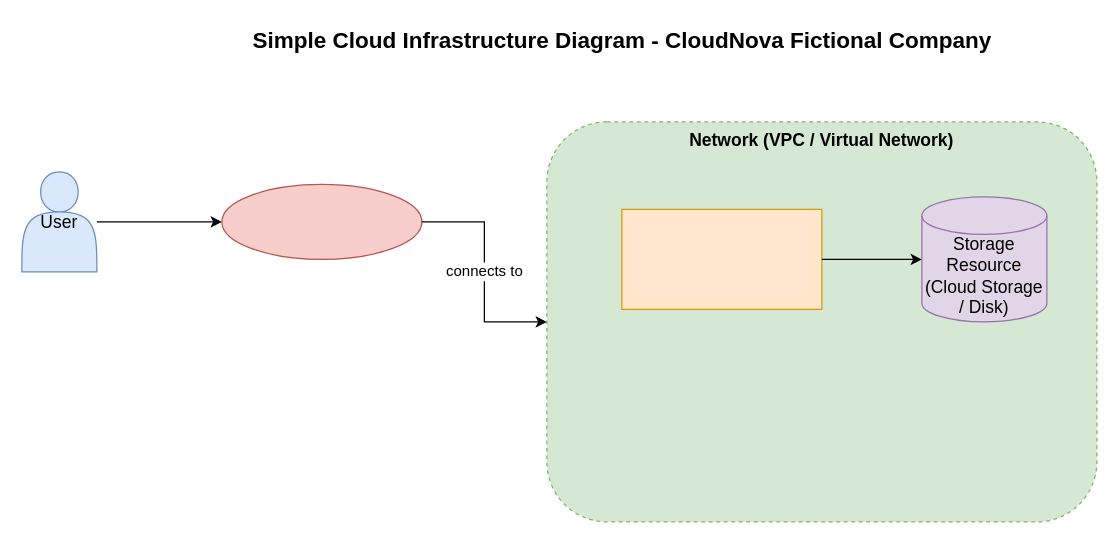
The diagram is 1119 pixels wide and 544 high, and some of its shapes have lost their labels. The shapes that lost their labels are listed below. From the top down, each one's centre as x and y in pixels, then its label:
(321,221): Internet Connection
(721,258): Compute Resource (Virtual Machine / Server)
